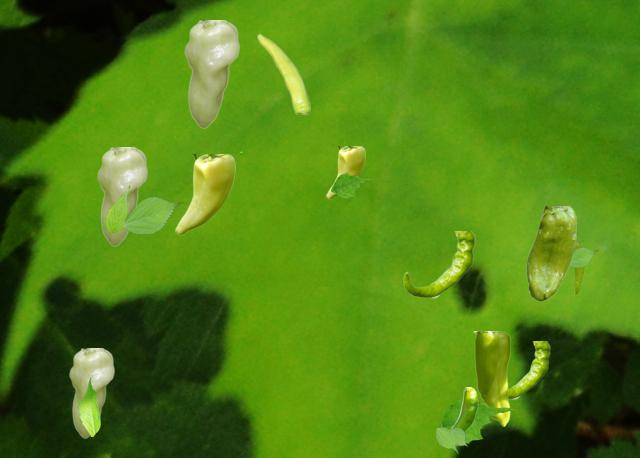green_chili: (184, 20, 238, 127), (97, 147, 146, 245), (175, 154, 234, 234), (403, 231, 474, 297), (526, 206, 575, 300), (257, 33, 309, 113), (69, 348, 113, 437), (473, 331, 509, 425), (509, 341, 549, 398), (326, 146, 364, 198), (451, 387, 477, 431), (572, 242, 583, 294)
